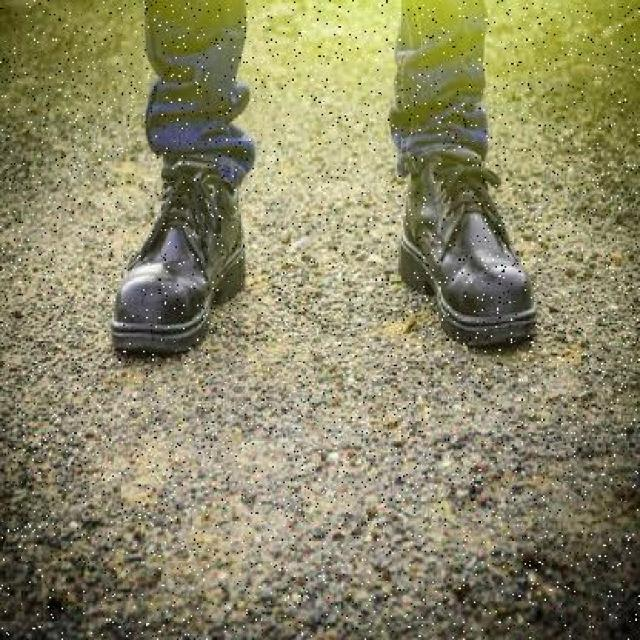shoes: (399, 167, 535, 341), (114, 174, 246, 340)
